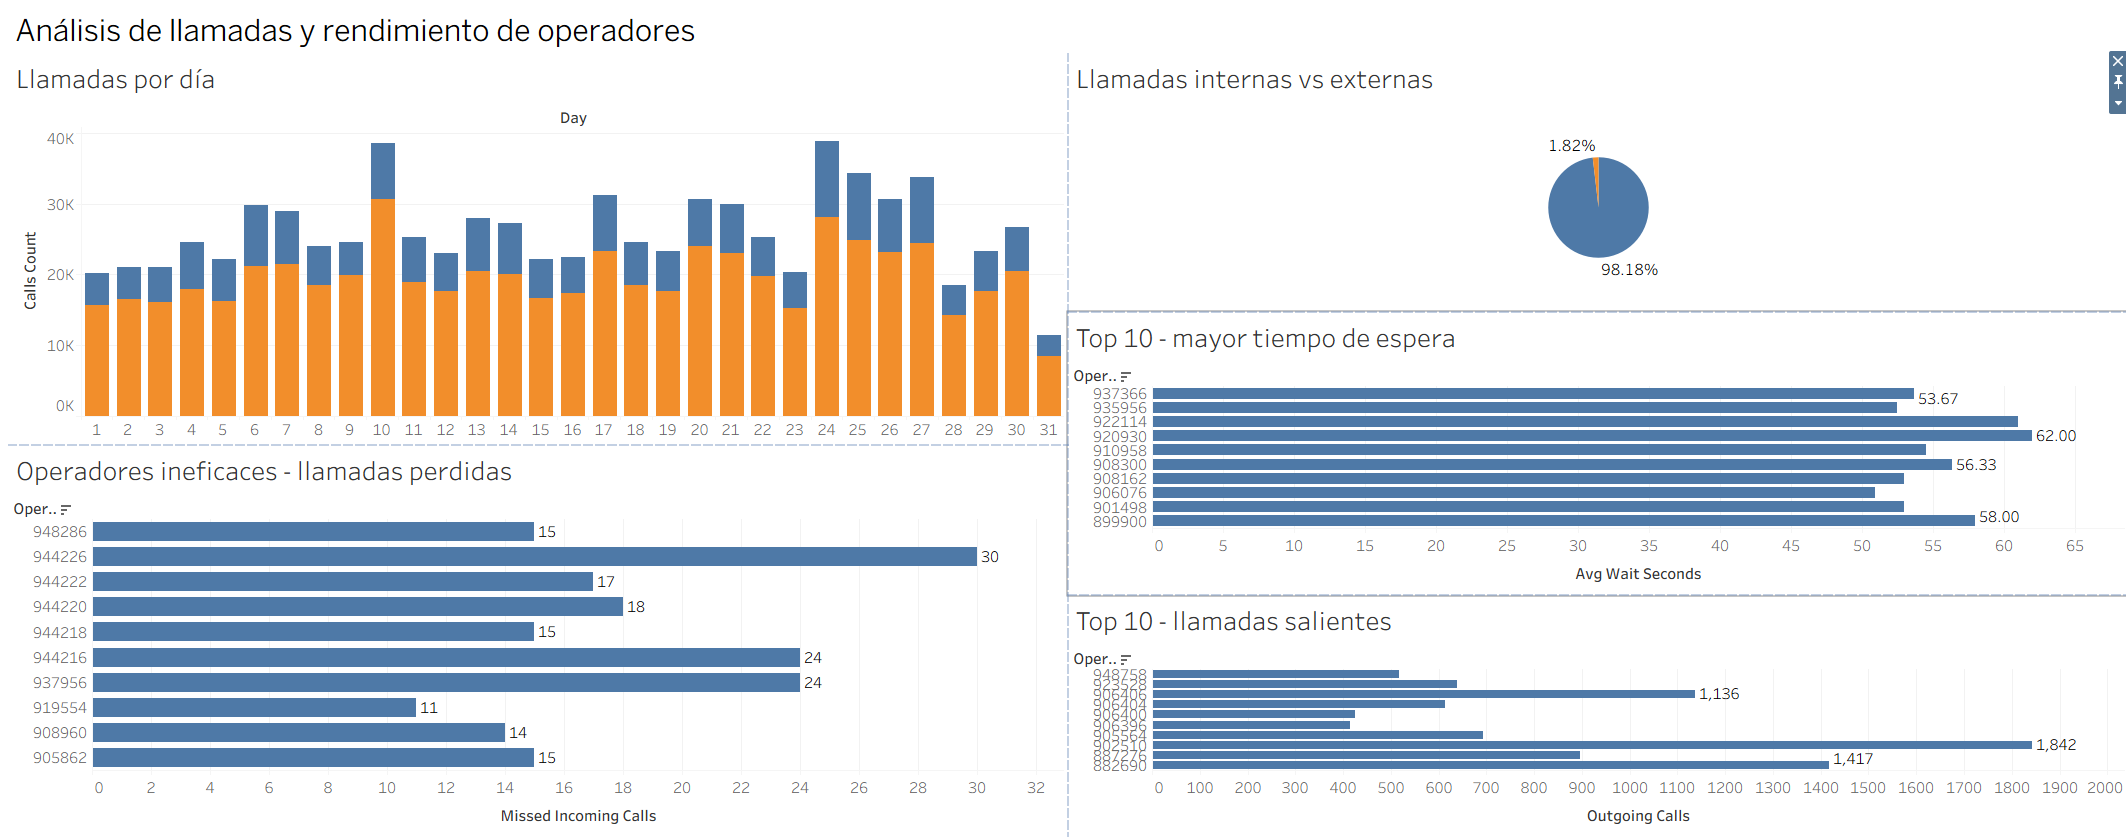

What the dashboard file says about the page in this screenshot:
{"tool":"tableau","page":{"name":"Dashboard 1","canvas":[1000,1000],"units":"permille","ordinal":0},"visuals":[{"type":"title","box":[3.5,9.5,993,54.4]},{"type":"worksheet","title":"Llamadas por día","mark":"Bar","rows":["calls_count"],"cols":["day"],"box":[3.5,63.8,461.7,463.3]},{"type":"worksheet","title":"Llamadas internas vs externas","mark":"Pie","box":[465.2,63.8,461.7,305.9]},{"type":"legend","title":"Llamadas por día","param":"[federated.1lax9pu1igkiiz17vru4b0is6tfm].[none:direction:nk]","box":[926.9,63.8,69.7,85.1]},{"type":"legend","title":"Llamadas internas vs externas","param":"[federated.1lax9pu1igkiiz17vru4b0is6tfm].[none:call_type:nk]","box":[926.9,149,69.7,85.1]},{"type":"legend","title":"Llamadas internas vs externas","param":"[federated.1lax9pu1igkiiz17vru4b0is6tfm].[sum:calls_count (internal_external_tab","box":[926.9,234.1,69.7,60.3]},{"type":"worksheet","title":"Top 10 - mayor tiempo de espera","mark":"Bar","rows":["operator_id"],"cols":["avg_wait_seconds"],"box":[465.2,369.8,461.7,334.9]},{"type":"worksheet","title":"Operadores ineficaces - llamadas perdidas","mark":"Bar","rows":["operator_id"],"cols":["missed_incoming_calls"],"box":[3.5,527.2,461.7,463.4]},{"type":"worksheet","title":"Top 10 - llamadas salientes","mark":"Bar","rows":["operator_id"],"cols":["outgoing_calls"],"box":[465.2,704.7,461.7,285.8]}]}

Visuals, with their boxes on the dashboard's canvas, which has no fixed pixel size, in thousandths of its width and height (x1, y1, x2, y2). These are canvas units, not pixel positions in the 2126x837 screenshot, which may show the page scaled, cropped or inside an application window:
title: region(4, 10, 996, 64)
"Llamadas por día" worksheet (Bar marks): region(4, 64, 465, 527)
"Llamadas internas vs externas" worksheet (Pie marks): region(465, 64, 927, 370)
"Llamadas por día" legend: region(927, 64, 997, 149)
"Llamadas internas vs externas" legend: region(927, 149, 997, 234)
"Llamadas internas vs externas" legend: region(927, 234, 997, 294)
"Top 10 - mayor tiempo de espera" worksheet (Bar marks): region(465, 370, 927, 705)
"Operadores ineficaces - llamadas perdidas" worksheet (Bar marks): region(4, 527, 465, 991)
"Top 10 - llamadas salientes" worksheet (Bar marks): region(465, 705, 927, 990)
